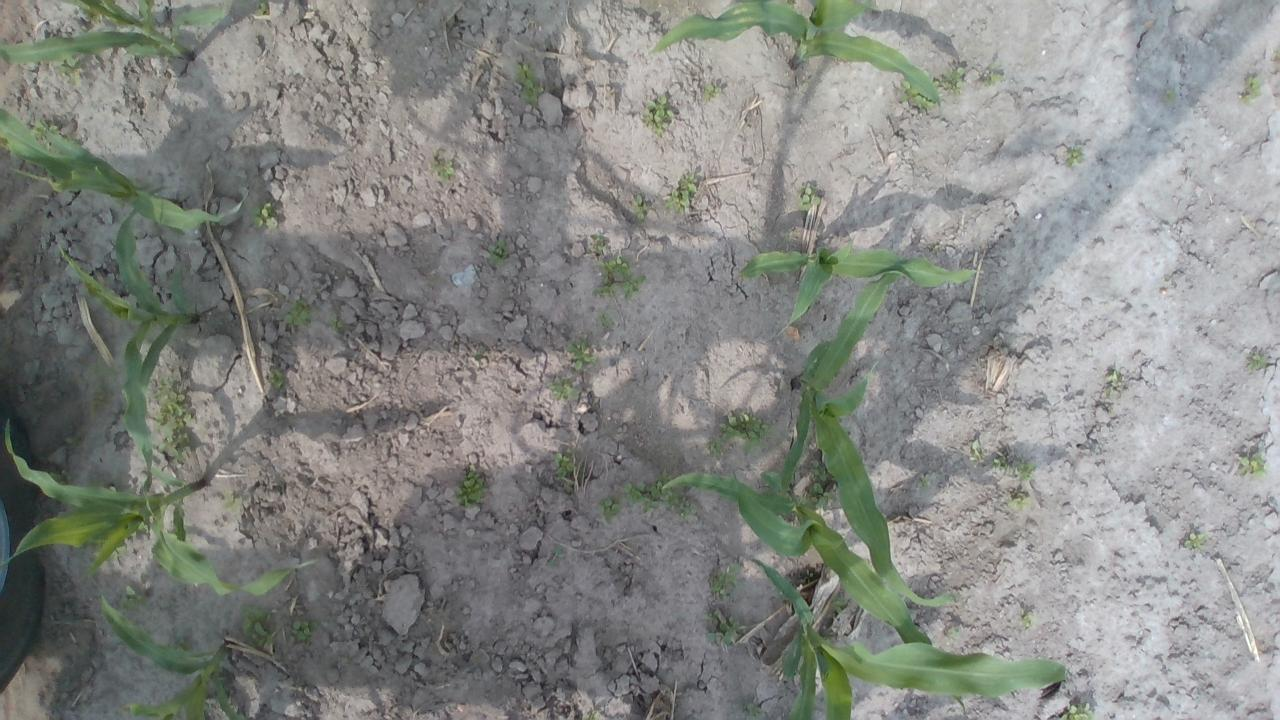Maize: (659, 469, 970, 720), (780, 269, 960, 616), (0, 415, 317, 595), (744, 551, 1070, 720), (58, 184, 197, 487), (650, 0, 944, 114), (0, 98, 245, 230), (739, 234, 986, 333), (92, 589, 246, 720), (0, 0, 228, 64)
Weeds: (620, 470, 696, 518), (151, 375, 193, 461), (706, 410, 770, 459), (798, 457, 832, 512), (703, 609, 747, 649), (238, 602, 274, 648), (84, 364, 116, 412), (453, 464, 488, 507), (639, 93, 674, 136), (510, 62, 544, 105), (662, 172, 698, 210), (897, 78, 934, 114), (282, 296, 320, 328), (704, 562, 739, 595), (598, 255, 632, 287), (931, 66, 967, 96), (990, 457, 1035, 480), (566, 334, 595, 369), (284, 615, 320, 642), (246, 198, 278, 228), (56, 55, 81, 86), (484, 237, 510, 266), (596, 494, 622, 523), (118, 583, 144, 611), (980, 62, 1009, 87), (1058, 701, 1094, 720), (1238, 455, 1266, 479), (548, 377, 578, 399), (430, 156, 456, 178), (553, 452, 574, 479), (1242, 75, 1262, 103), (1062, 144, 1086, 167), (798, 183, 816, 212), (586, 232, 606, 256), (624, 275, 646, 296), (222, 490, 241, 514), (29, 118, 57, 134), (632, 194, 649, 220), (1184, 531, 1208, 549), (828, 591, 848, 612), (1244, 352, 1268, 369), (49, 469, 73, 485), (741, 702, 762, 720), (64, 430, 83, 449), (591, 284, 615, 298), (546, 545, 562, 566), (1007, 496, 1031, 510), (172, 638, 192, 652), (702, 84, 722, 98), (968, 440, 982, 460), (599, 312, 615, 329), (268, 368, 284, 384), (474, 344, 488, 362), (111, 543, 127, 558), (1021, 612, 1036, 626), (1104, 368, 1118, 383), (330, 318, 344, 332), (255, 0, 268, 15), (582, 710, 600, 720), (1165, 88, 1175, 98), (919, 479, 928, 487)
